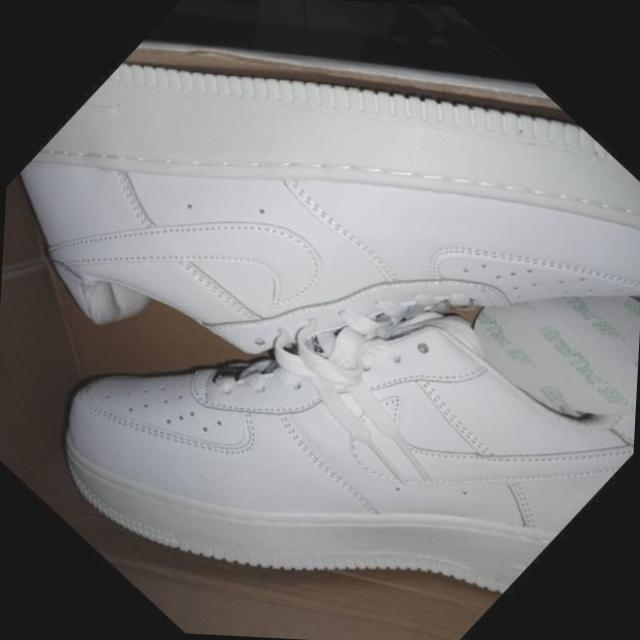nike_fake_airforce: (0, 0, 640, 618), (26, 101, 640, 640)
